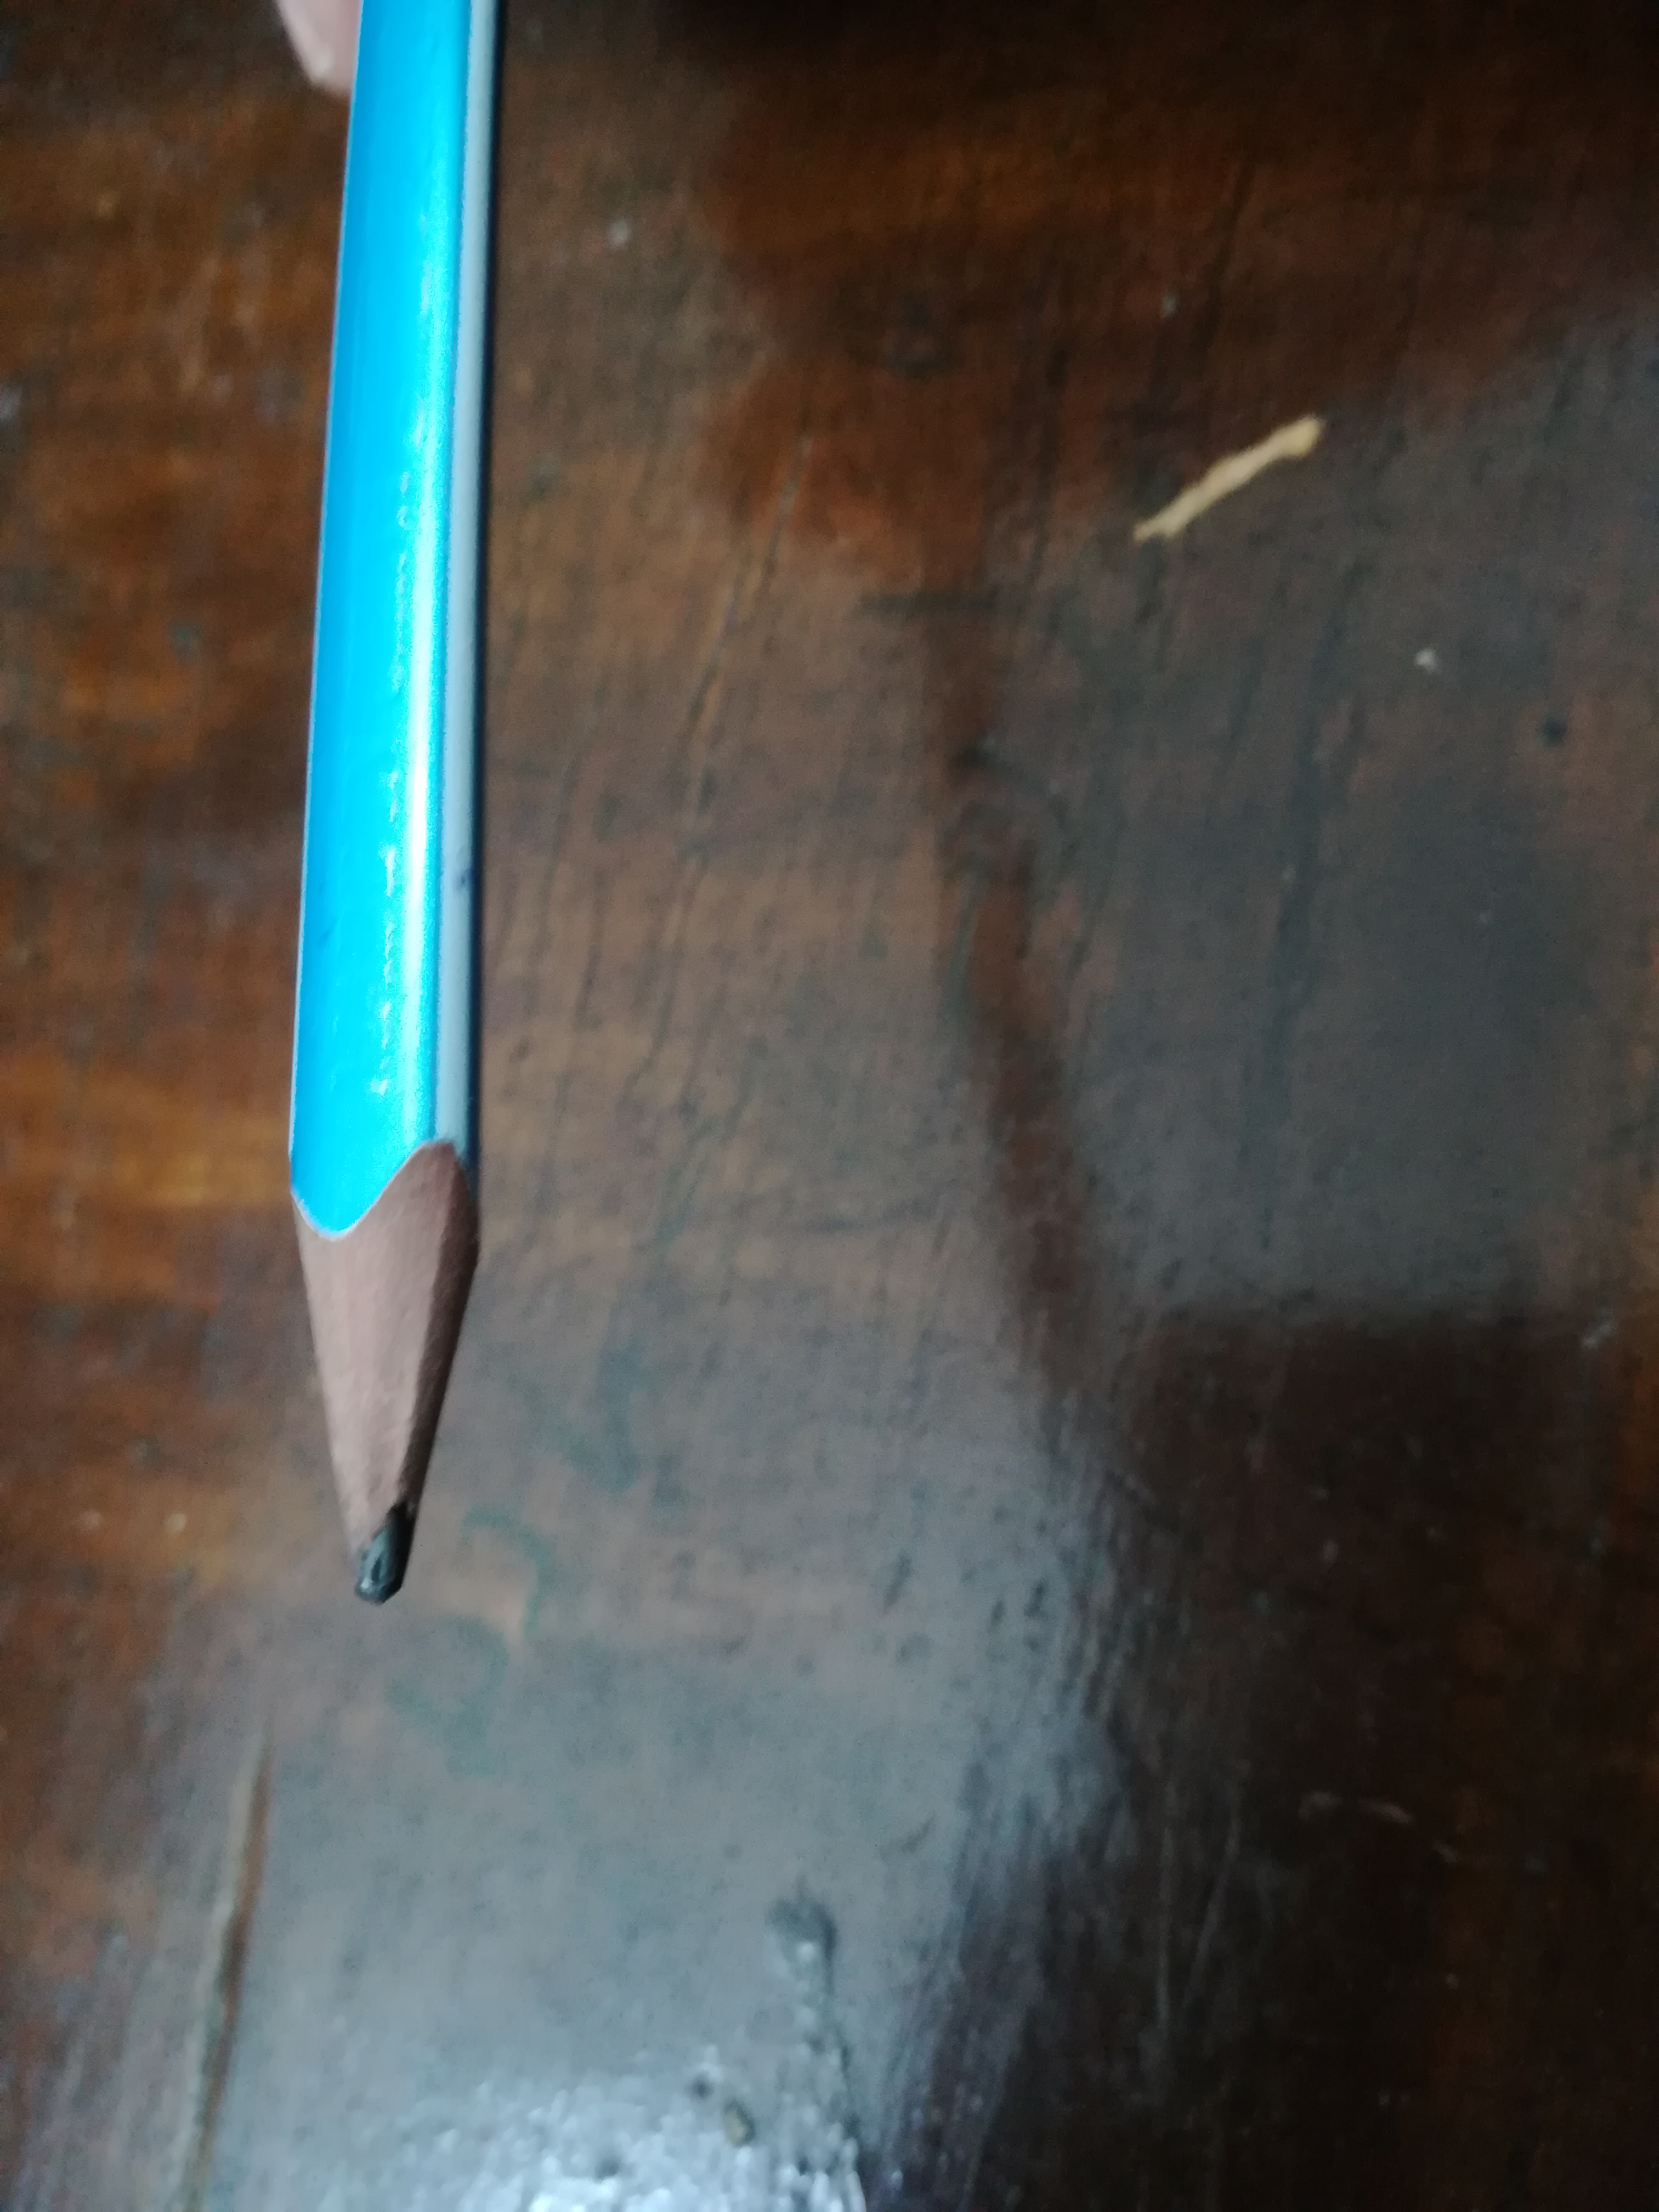pen_tip: (174, 864, 599, 1709)
